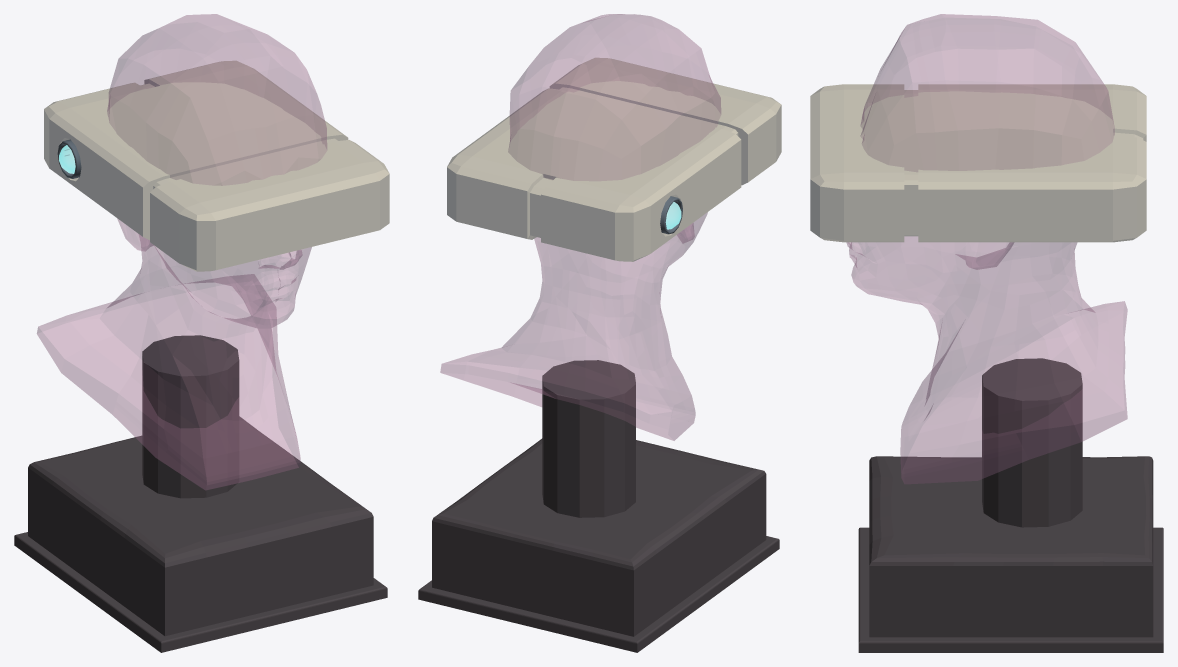
The model's file is visor.gltf.
The picture shows the model from 3 angles, left to right: view 1: azimuth 30°, elevation 25°; view 2: azimuth 150°, elevation 25°; view 3: azimuth 270°, elevation 25°; orthographic projection. The views are drawn at different scales.
Parts seen in each view (by area): view 1: bust, Cube.002, Cube.001; view 2: Cube.002, bust, Cube.001; view 3: bust, Cube.002, Cube.001.
Part boxes in pixels (x1=…): bust: x1=37, y1=14, x2=326, y2=490; Cube.002: x1=14, y1=335, x2=387, y2=652; Cube.001: x1=44, y1=60, x2=389, y2=271; Cube.002: x1=418, y1=360, x2=779, y2=652; bust: x1=440, y1=14, x2=720, y2=440; Cube.001: x1=447, y1=57, x2=781, y2=261; bust: x1=846, y1=14, x2=1127, y2=483; Cube.002: x1=858, y1=358, x2=1163, y2=652; Cube.001: x1=810, y1=84, x2=1146, y2=242.
Size of the model in its own units: 1.54 by 3.58 by 2.01.
